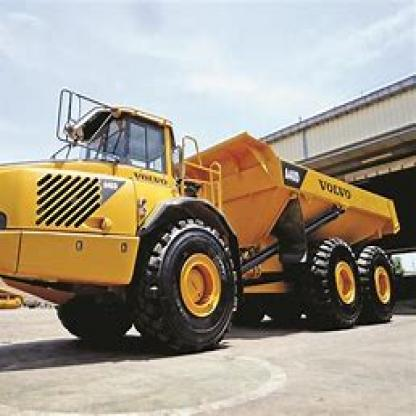dump_truck: (2, 74, 408, 355)
